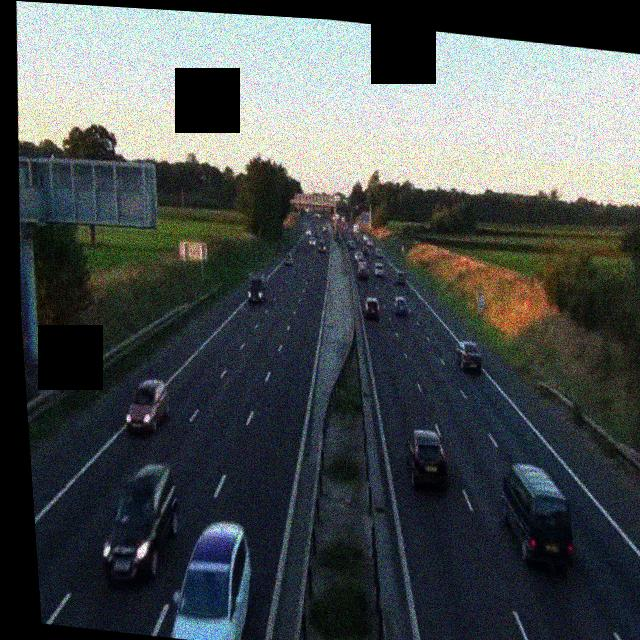car: (161, 512, 258, 640), (96, 456, 187, 590), (495, 462, 580, 574), (403, 426, 451, 493), (122, 376, 173, 438), (453, 340, 484, 373), (245, 273, 267, 306), (363, 295, 380, 321), (392, 293, 409, 317), (357, 261, 371, 281), (395, 271, 408, 287), (374, 262, 386, 279), (282, 251, 294, 266), (316, 240, 327, 252), (348, 241, 358, 253), (306, 229, 314, 242), (320, 226, 328, 237)
